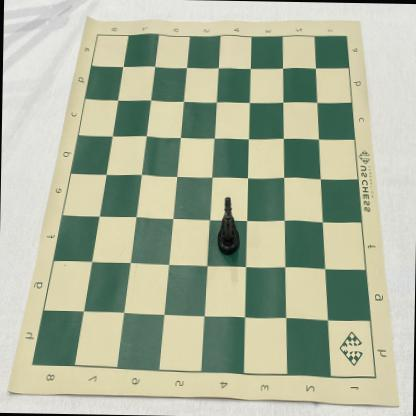black-knight: (216, 196, 240, 256)
